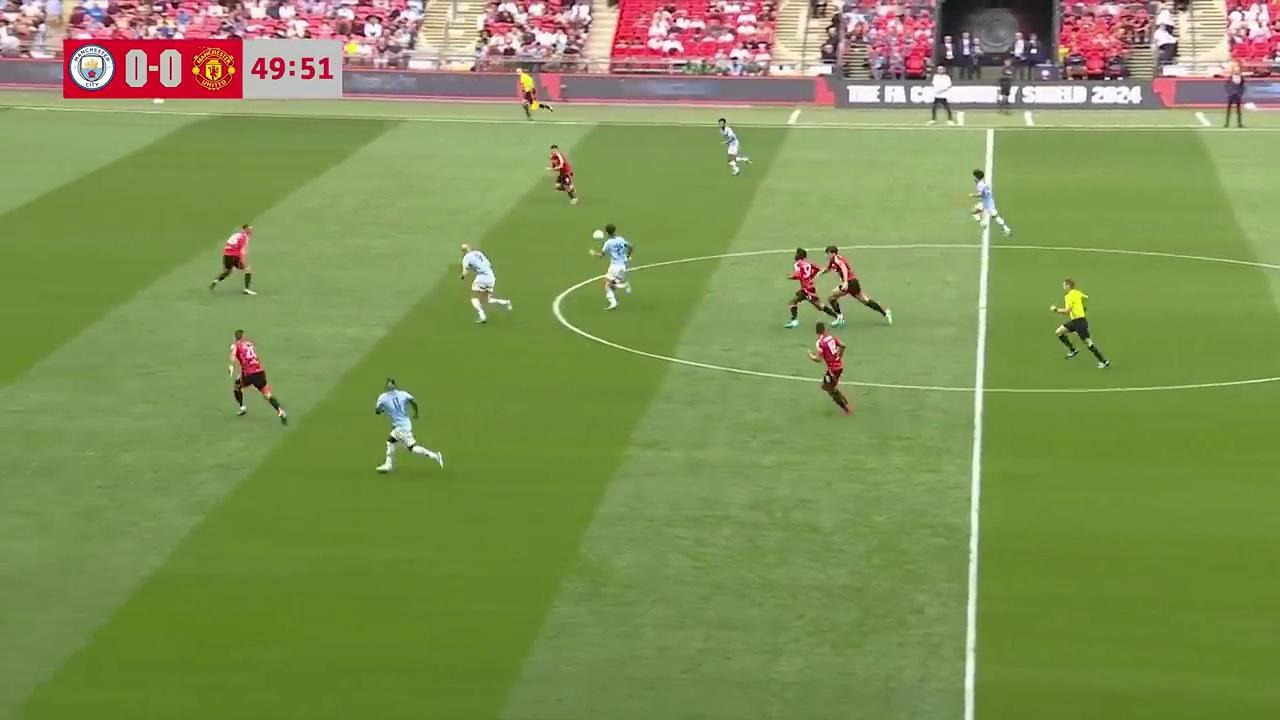ball: (591, 226, 607, 241)
player: (820, 245, 893, 324), (228, 329, 288, 425), (374, 375, 430, 474), (809, 321, 851, 414), (590, 224, 633, 309), (207, 224, 256, 296), (459, 242, 499, 323), (785, 247, 820, 328), (972, 171, 1012, 237), (547, 144, 578, 203), (718, 119, 746, 174)
referee: (1050, 278, 1108, 366), (517, 68, 537, 121)
